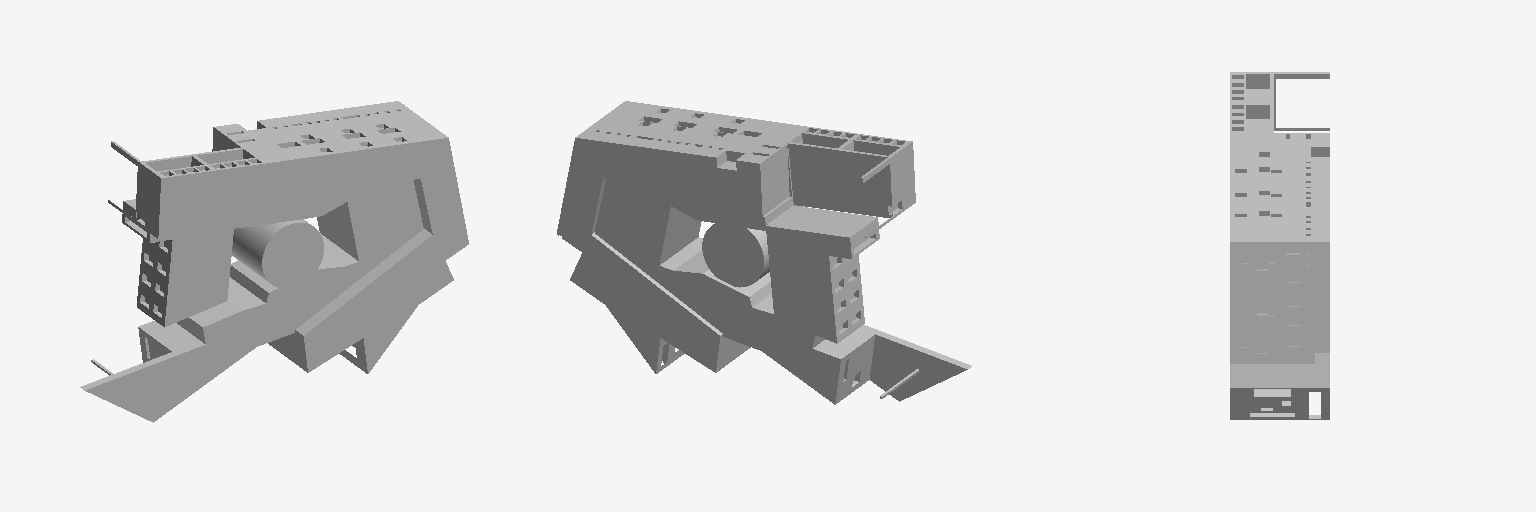
Rendered from edificio contesto 1 - Vista 3D - Vista 3D 1.obj.
3 renders of one model, left to right at view 1: azimuth 30°, elevation 25°; view 2: azimuth 150°, elevation 25°; view 3: azimuth 270°, elevation 25°, orthographic.
Visible parts, largest first — view 1: Unione di geometria solida, Unione di geometria solida:2, Unione di geometria solida:1, Elemento di forma; view 2: Unione di geometria solida, Unione di geometria solida:2, Unione di geometria solida:1, Elemento di forma; view 3: Unione di geometria solida.
Part boxes in pixels (left/top/right/bottom): Unione di geometria solida: left=108, top=101, right=468, bottom=373; Unione di geometria solida:2: left=80, top=180, right=423, bottom=422; Unione di geometria solida:1: left=122, top=199, right=233, bottom=327; Elemento di forma: left=232, top=219, right=323, bottom=288; Unione di geometria solida: left=557, top=101, right=915, bottom=373; Unione di geometria solida:2: left=595, top=179, right=971, bottom=404; Unione di geometria solida:1: left=766, top=206, right=879, bottom=343; Elemento di forma: left=702, top=223, right=769, bottom=287; Unione di geometria solida: left=1230, top=72, right=1329, bottom=419.
Bounding box in the file's own units: 77.73 × 49.5 × 18.